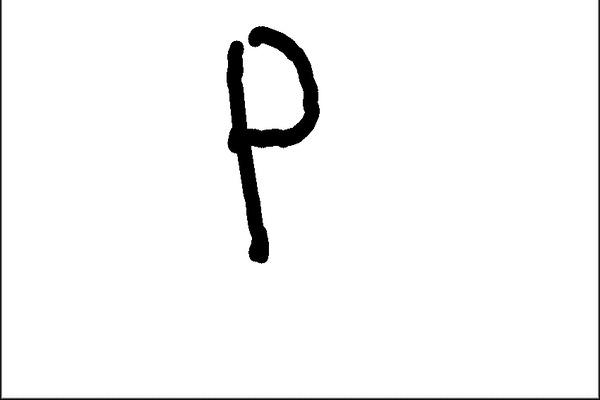P: (195, 13, 345, 283)
